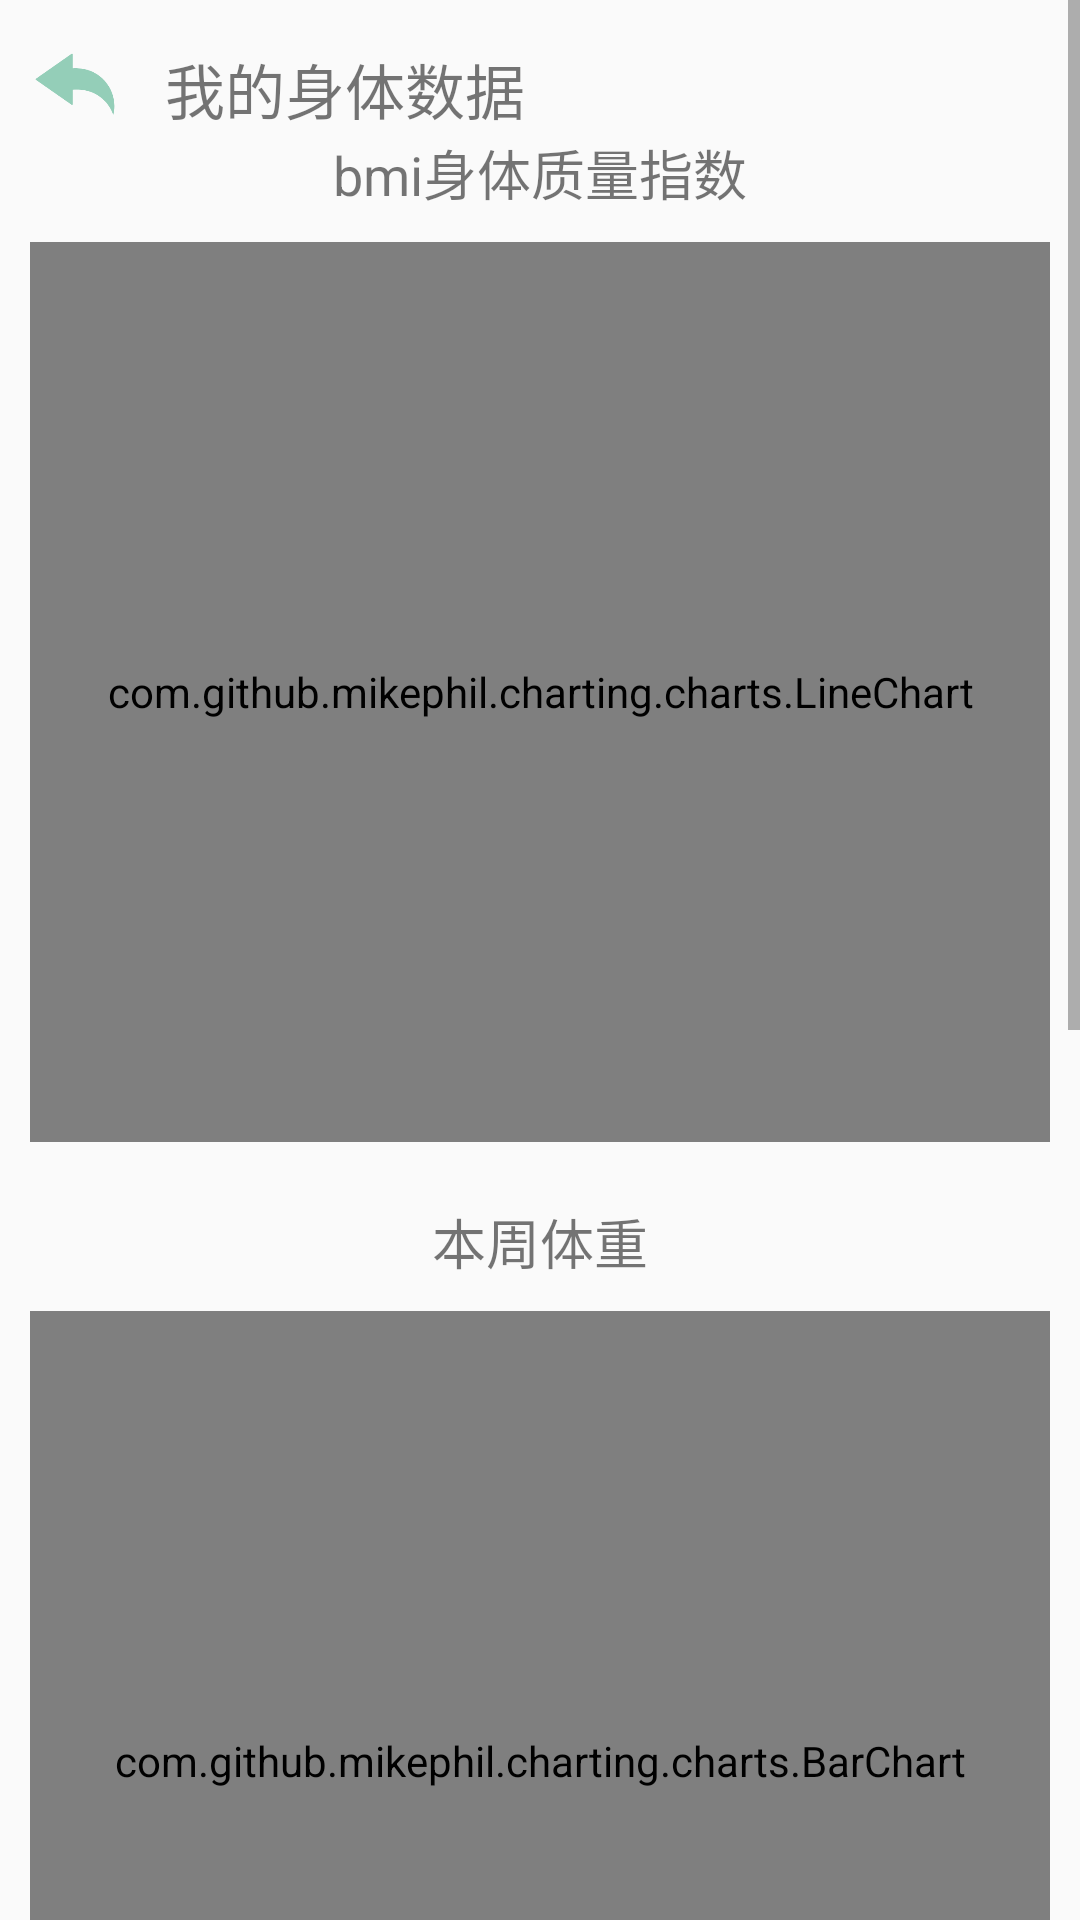

Named icons in this screenshot (1080 × 1920) and their bounding boxes, (x1, y1, x2, y2):
back: (35, 54, 115, 114)
